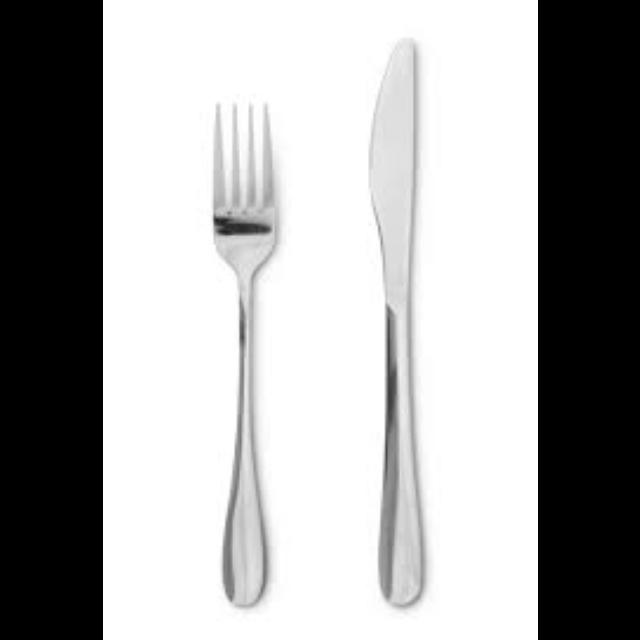Knife: (366, 36, 422, 604)
